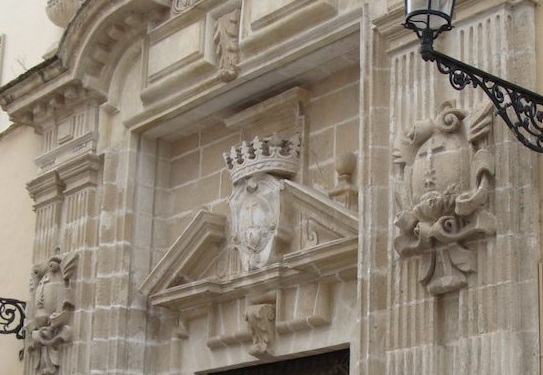fronton-partido: (139, 178, 357, 310)
